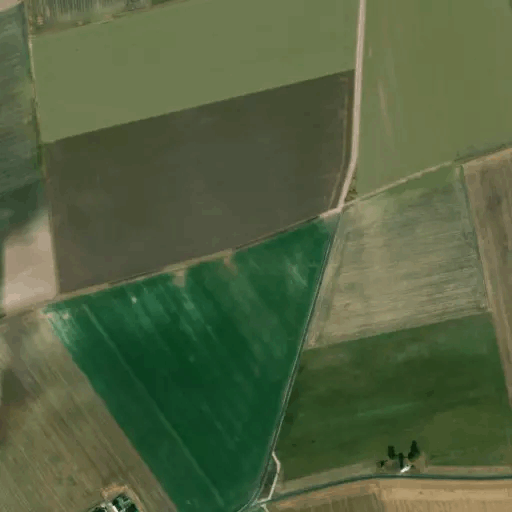wt: (389, 450, 418, 476)
